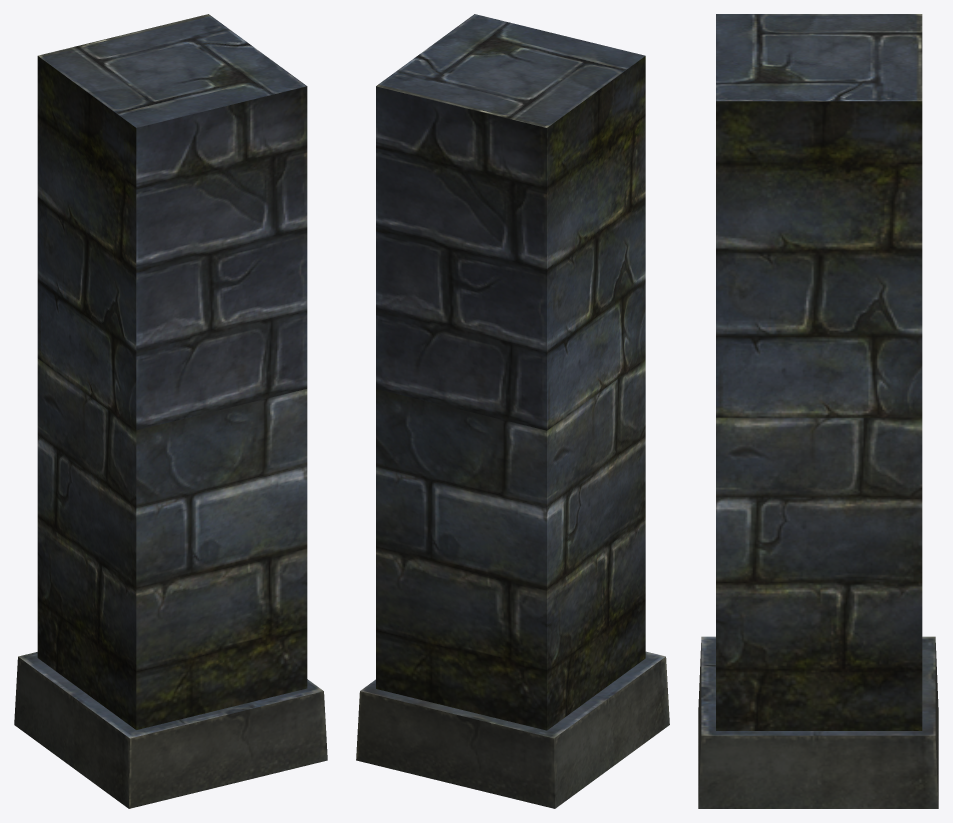
Rendered from C_shizhu004.fbx.
The picture shows the model from 3 angles, left to right: view 1: azimuth 30°, elevation 25°; view 2: azimuth 150°, elevation 25°; view 3: azimuth 270°, elevation 25°; orthographic projection. The views are drawn at different scales.
Visible parts, largest first — view 1: C_shizhu004; view 2: C_shizhu004; view 3: C_shizhu004.
Boxes of the visible parts, bbox=[...] form: C_shizhu004: bbox=[14, 14, 327, 808]; C_shizhu004: bbox=[356, 14, 669, 808]; C_shizhu004: bbox=[698, 14, 938, 808].
Bounding box in the file's own units: 96.72 × 312 × 96.72.
